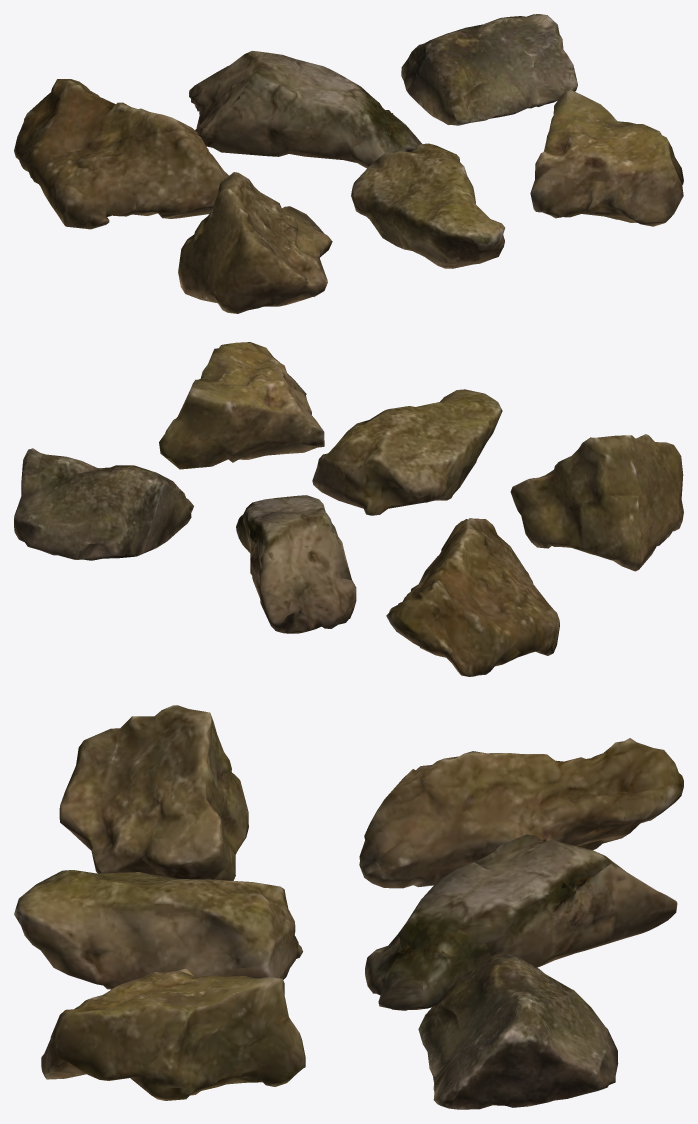
Rendered from rocher_mousse_lod0.glb.
3 renders of one model, top to bottom at view 1: azimuth 30°, elevation 25°; view 2: azimuth 150°, elevation 25°; view 3: azimuth 270°, elevation 25°, orthographic. The views are drawn at different scales.
Visible parts, largest first — view 1: rock_moss_set_01_rock01; view 2: rock_moss_set_01_rock01; view 3: rock_moss_set_01_rock01.
Part boxes in pixels (x1,y1,x2,y2): rock_moss_set_01_rock01: [14, 14, 683, 313]; rock_moss_set_01_rock01: [14, 342, 683, 676]; rock_moss_set_01_rock01: [14, 705, 683, 1109].
Bounding box in the file's own units: 8 × 1.76 × 6.94.
Materials: 1 (1 with a texture image).
